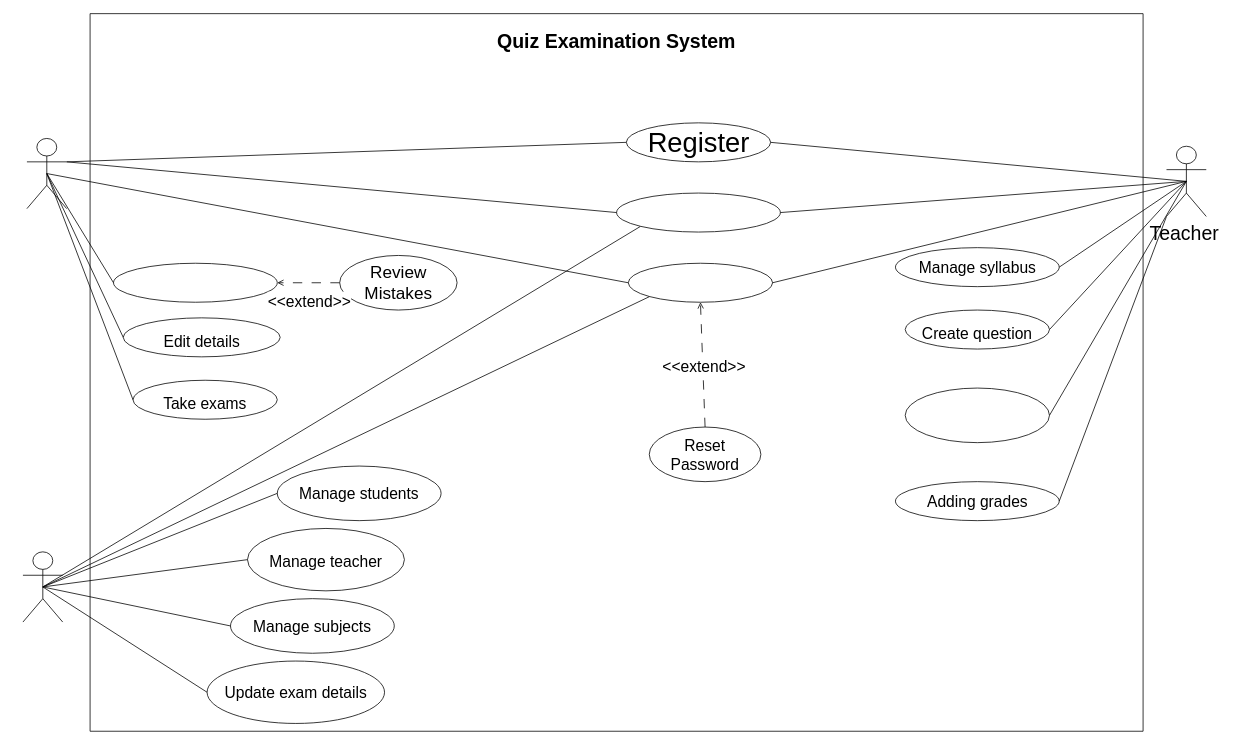
Some shapes in this 1238 by 745 pixel diagram are drawn without their labels. The centre of each missing label's shape, as x and y in pixels:
"Admin" belongs at (42,586).
"Login" belongs at (700,282).
"Logout" belongs at (698,212).
"Student" belongs at (46,173).
"Validate answers" belongs at (976,415).
"View results" belongs at (195,282).
